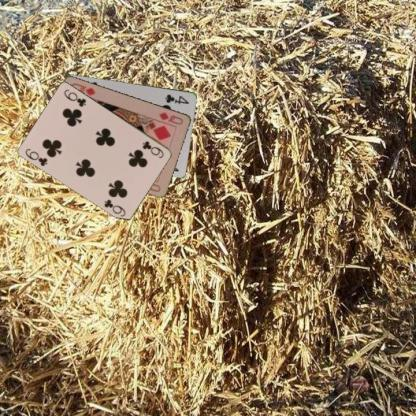4c: (162, 92, 190, 105)
6c: (23, 146, 49, 168), (140, 138, 165, 160)
Qd: (157, 109, 184, 126)
